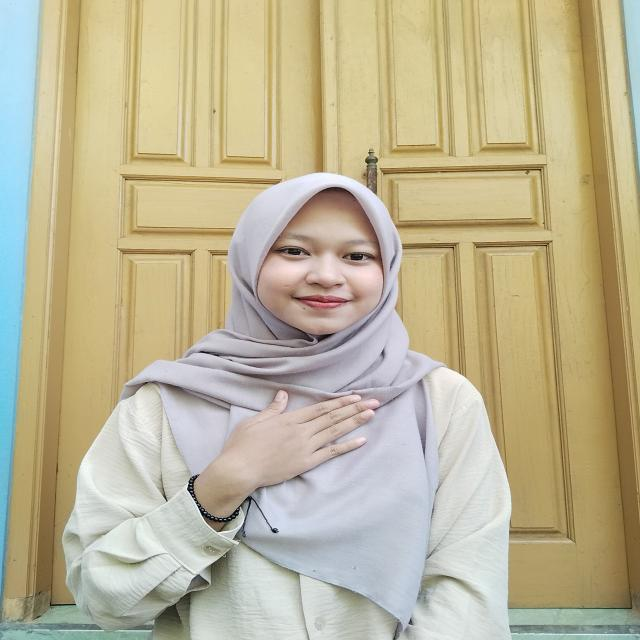tolong: (172, 383, 390, 515)
